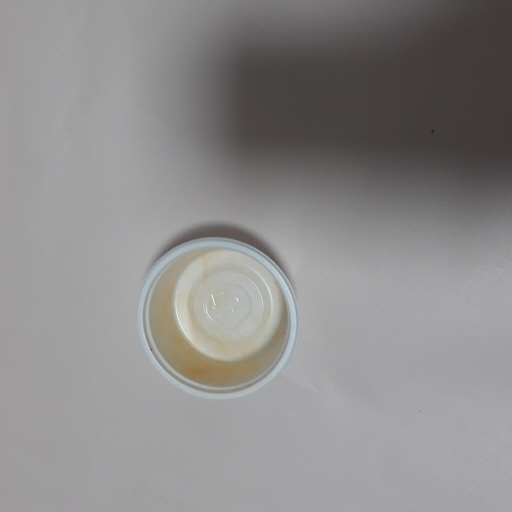Plastic_5: (133, 230, 301, 401)
